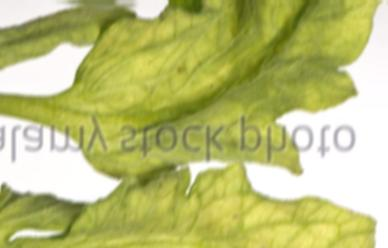Tomato leaf mosaic virus: (45, 0, 388, 195), (0, 159, 388, 248)
